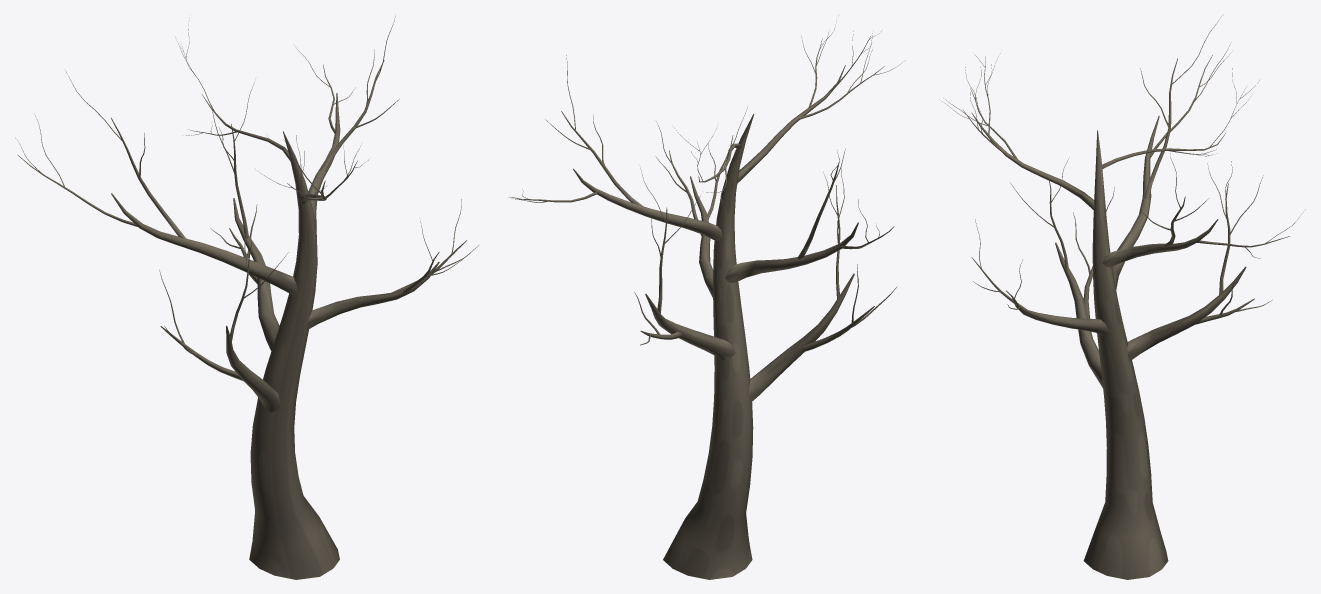
File: tree.gltf
The picture shows the model from 3 angles, left to right: view 1: azimuth 30°, elevation 25°; view 2: azimuth 150°, elevation 25°; view 3: azimuth 270°, elevation 25°; orthographic projection. The views are drawn at different scales.
Parts seen in each view (by area): view 1: Tree_LOD0; view 2: Tree_LOD0; view 3: Tree_LOD0.
Part boxes in pixels (x1,y1,x2,y2): Tree_LOD0: [15, 16, 478, 579]; Tree_LOD0: [508, 15, 905, 579]; Tree_LOD0: [939, 14, 1305, 579].
Size of the model in its own units: 12.82 by 16.8 by 12.1.
1 material, 1 textured.
